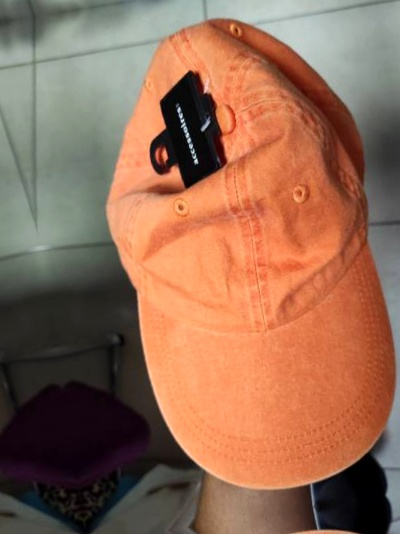Hat: (55, 0, 400, 521), (0, 53, 37, 534), (138, 503, 400, 534), (395, 0, 400, 466)
